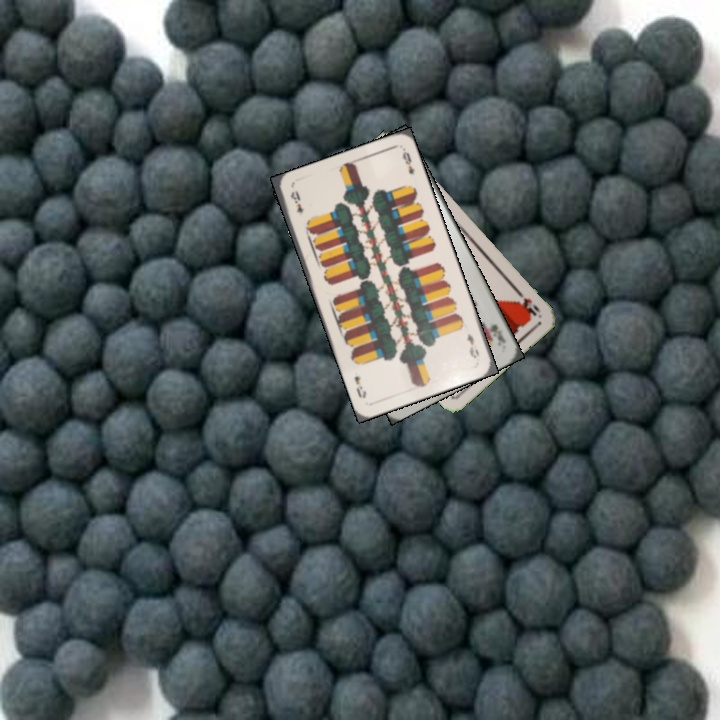E9: (463, 329, 482, 361), (286, 187, 306, 216)
HO: (511, 285, 542, 319)
SK: (479, 318, 508, 349)
